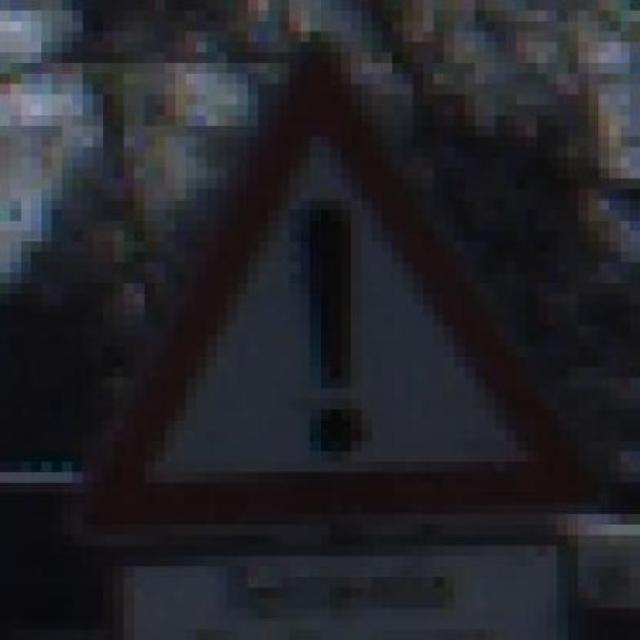Attention Please-: (51, 42, 609, 536)
